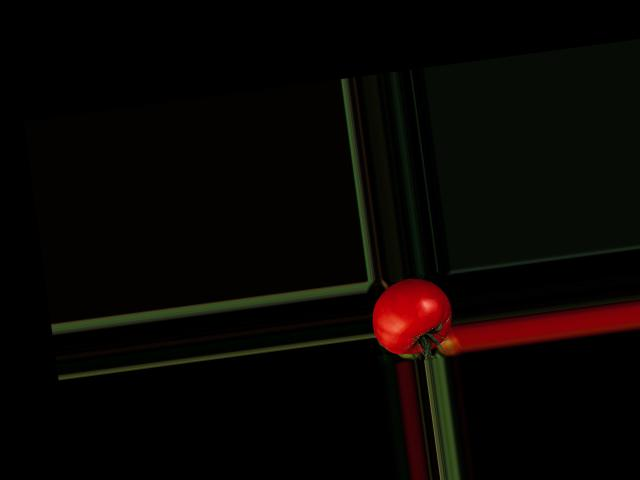tomato: (367, 273, 455, 358)
